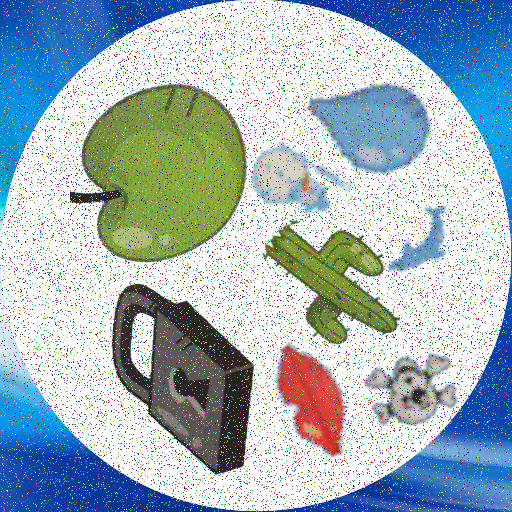apple_icon: (70, 81, 268, 279)
cactus_icon: (252, 196, 416, 360)
dolphin_icon: (379, 200, 464, 285)
lips_icon: (257, 336, 380, 459)
lock_icon: (84, 282, 282, 480)
raindrop_icon: (306, 59, 433, 186)
skull_icon: (358, 340, 462, 444)
snowman_icon: (252, 127, 354, 229)
